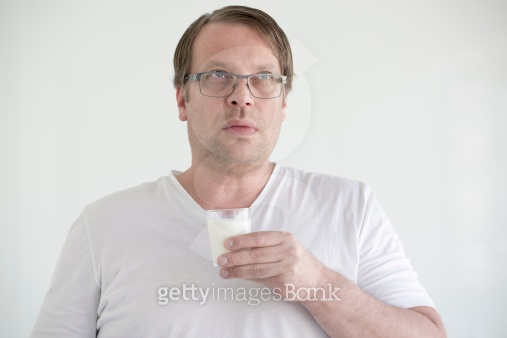glass of milk: (206, 203, 256, 273)
